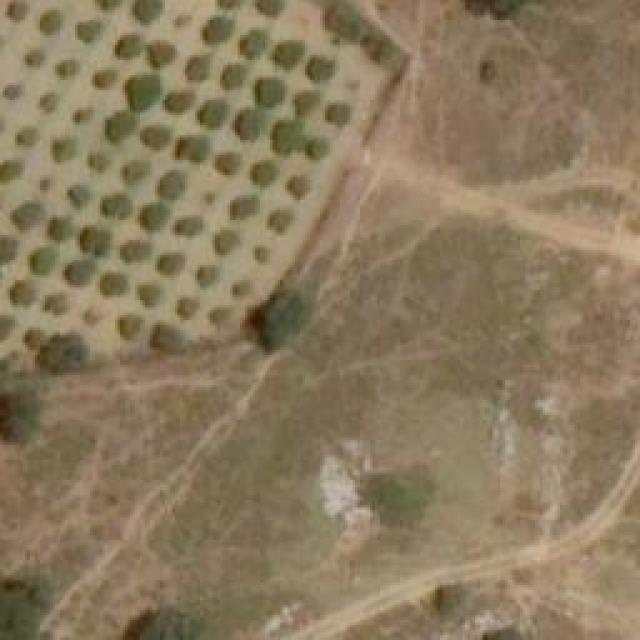Tree: (0, 567, 52, 640), (260, 290, 305, 345), (137, 607, 202, 640), (0, 388, 38, 443), (37, 333, 85, 373), (128, 75, 158, 110), (255, 78, 288, 108), (62, 260, 100, 285), (275, 120, 303, 153), (13, 202, 46, 230), (328, 8, 358, 38), (80, 225, 110, 255), (138, 205, 173, 230), (235, 110, 263, 140), (100, 192, 130, 220), (153, 322, 183, 350), (273, 40, 306, 65), (175, 138, 210, 161), (198, 100, 228, 125), (242, 30, 270, 55), (205, 20, 235, 43), (100, 273, 130, 296), (118, 243, 151, 263), (295, 90, 323, 113), (107, 115, 135, 138), (122, 160, 150, 183), (165, 90, 193, 113), (157, 253, 185, 276), (368, 35, 393, 60), (223, 63, 248, 88), (175, 215, 205, 235), (132, 0, 159, 22), (310, 55, 335, 78), (190, 55, 213, 80), (233, 195, 258, 218), (253, 163, 278, 186), (215, 228, 238, 253), (218, 150, 243, 173), (160, 173, 183, 198), (118, 315, 143, 338), (33, 248, 56, 273), (75, 20, 100, 43), (142, 128, 170, 148), (270, 210, 293, 233), (118, 35, 141, 58), (195, 265, 218, 288), (48, 218, 71, 241), (0, 159, 22, 182), (147, 45, 175, 63), (328, 105, 353, 125), (210, 308, 230, 333), (138, 285, 163, 305), (10, 283, 35, 303), (43, 293, 68, 313), (308, 138, 331, 158), (53, 138, 76, 158), (40, 13, 60, 36), (15, 127, 40, 145), (70, 185, 88, 208), (55, 60, 78, 78), (0, 315, 18, 338), (5, 0, 25, 20), (290, 175, 308, 195), (38, 92, 58, 110), (95, 70, 115, 88), (0, 240, 18, 260), (260, 0, 283, 15), (88, 153, 111, 168), (177, 297, 195, 315), (25, 327, 43, 345), (73, 108, 93, 123), (255, 245, 270, 263), (25, 50, 43, 65)
